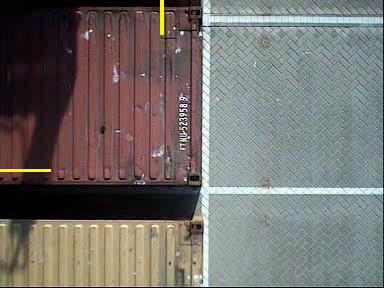groundmarker_2: (190, 139, 268, 239)
